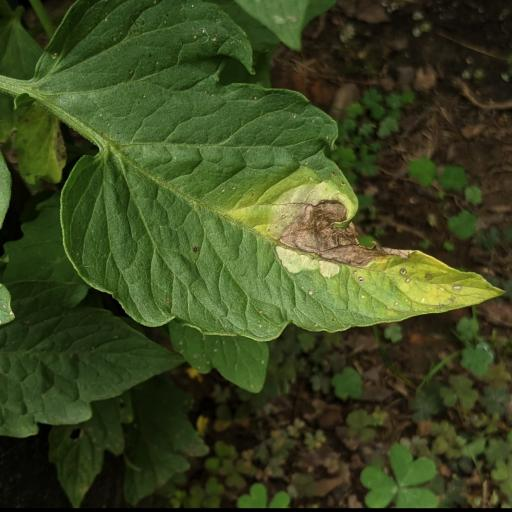disease_tomato: (37, 0, 509, 342)
